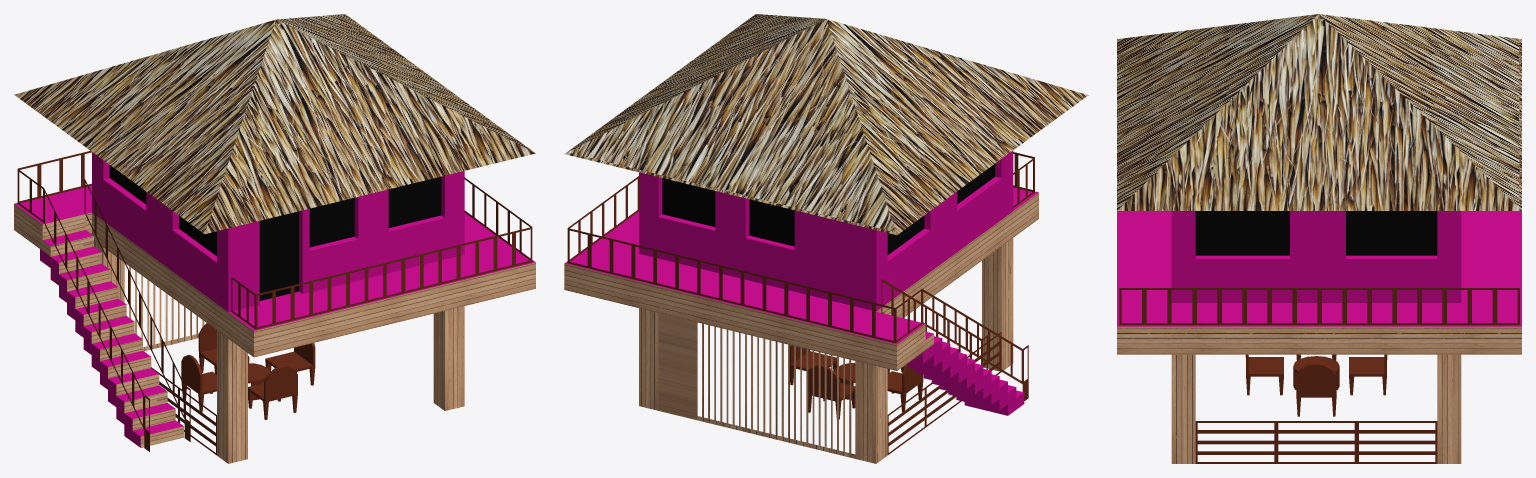
File: Villa.gltf
The picture shows the model from 3 angles, left to right: view 1: azimuth 30°, elevation 25°; view 2: azimuth 150°, elevation 25°; view 3: azimuth 270°, elevation 25°; orthographic projection. The views are drawn at different scales.
Visible parts, largest first — view 1: Plane.003; view 2: Plane.003; view 3: Plane.003.
Boxes of the visible parts, bbox=[...] form: Plane.003: bbox=[14, 14, 535, 463]; Plane.003: bbox=[564, 14, 1088, 463]; Plane.003: bbox=[1117, 14, 1521, 463].
Size of the model in its own units: 9.35 by 9.85 by 9.31.
Materials: 6 (2 with a texture image).
